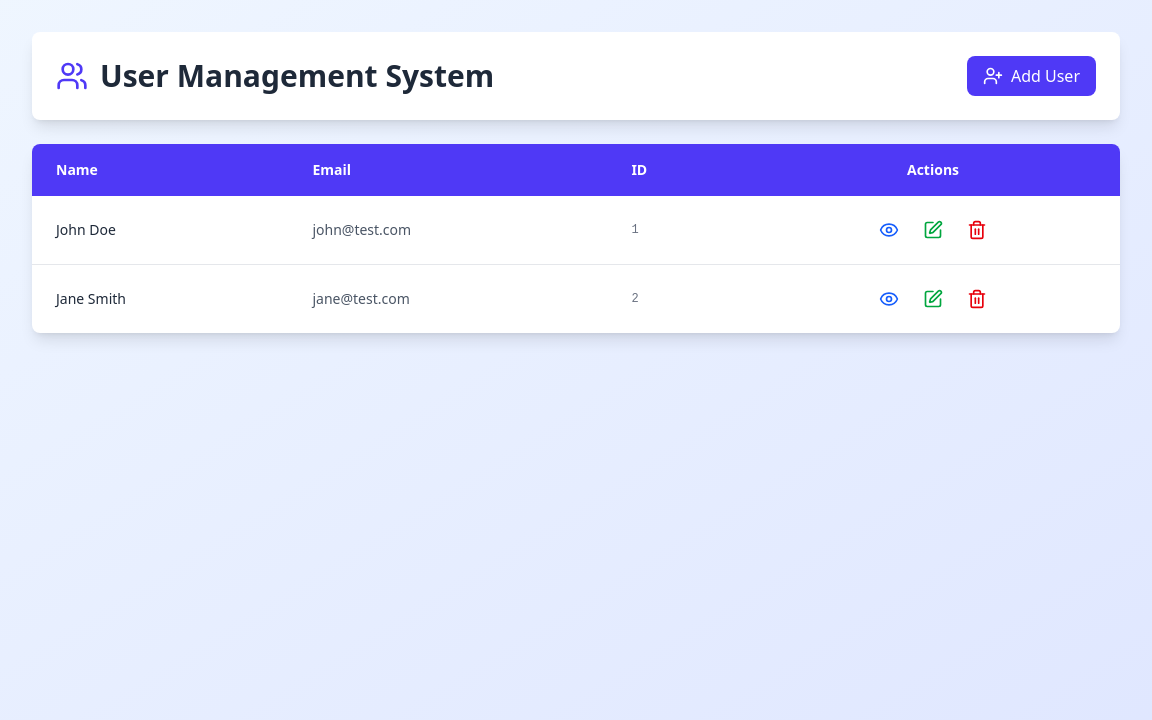
App Component - Integration Tests › should open view modal when view button is clicked
expect the text "John Doe" is shown: met, box [32,196,288,264]
What coordinates should you click on to do the following:
click the button named "View John Doe"
I would click on:
 (889, 230)
Its box is [871,212,907,248].
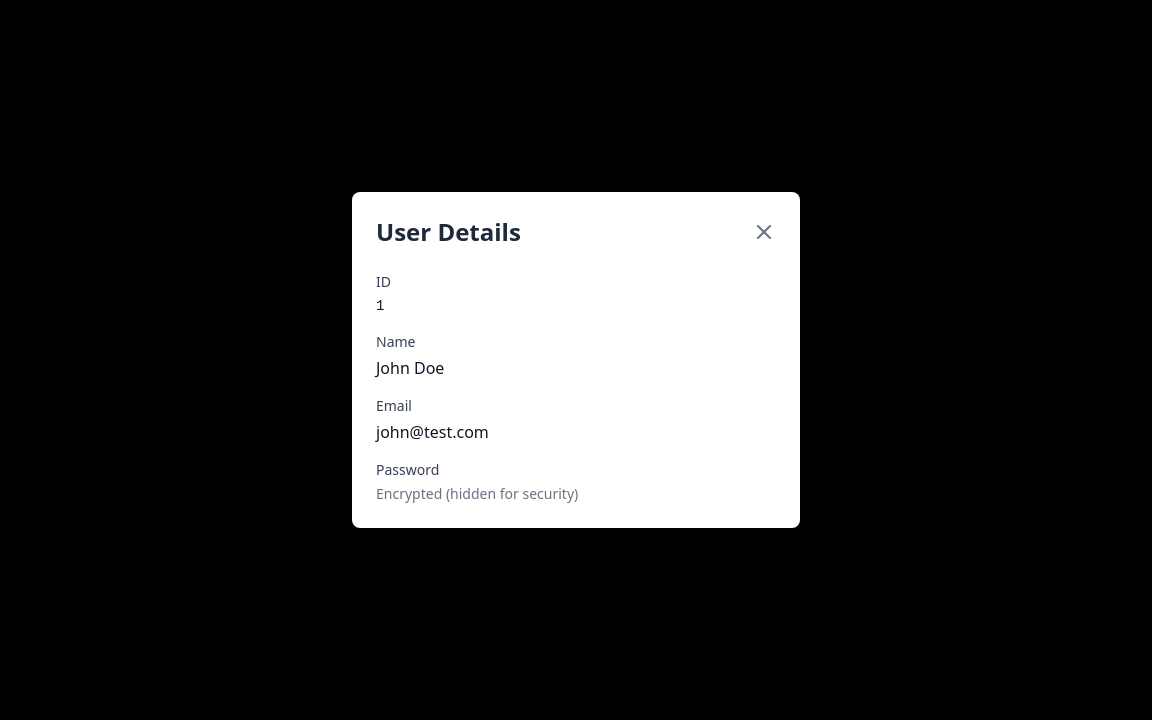
expect the heading "User Details" is shown: met, box [376,216,521,248]
